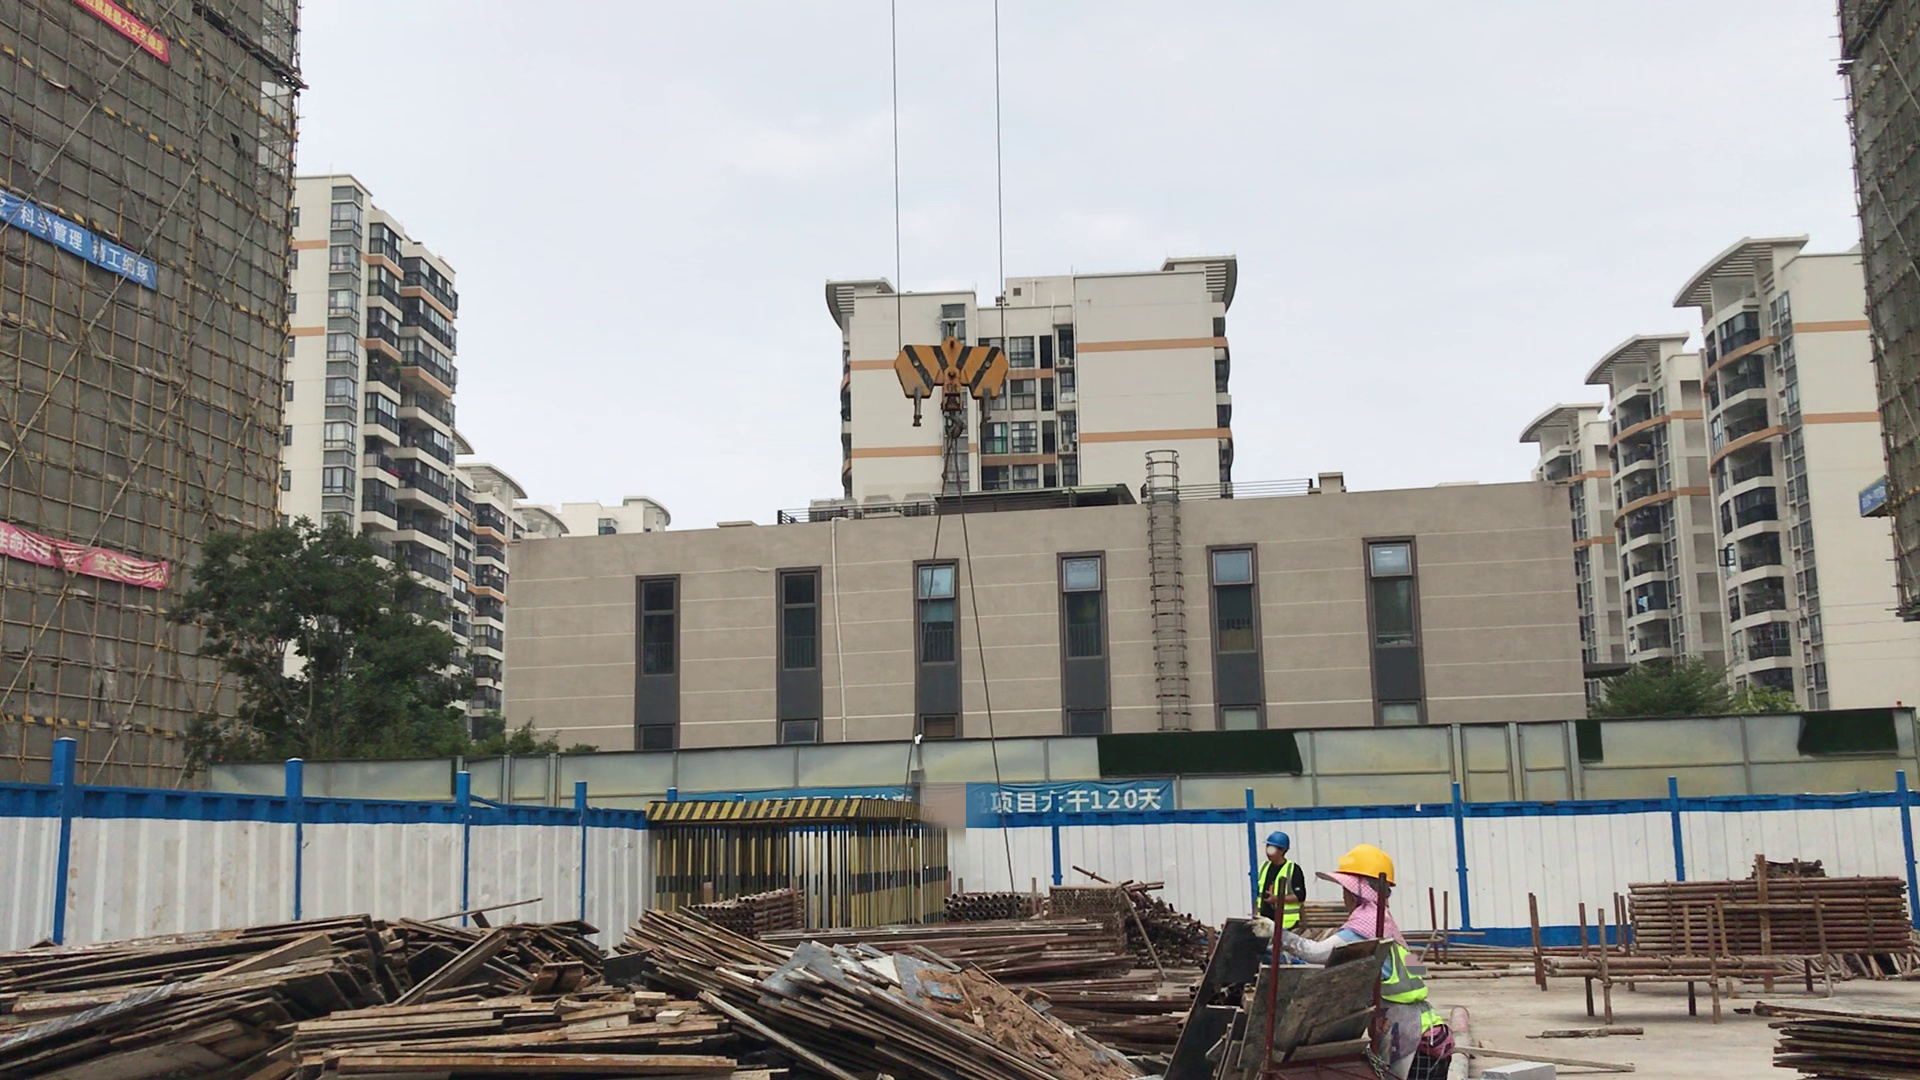board: (7, 922, 405, 1080), (741, 942, 1075, 1080), (281, 994, 725, 1080), (418, 907, 613, 996), (627, 902, 778, 1011), (1750, 989, 1919, 1080)
helmet: (1330, 844, 1401, 893), (1268, 828, 1293, 856)
hook: (888, 328, 1029, 435)
person: (1307, 843, 1447, 1080), (1254, 829, 1306, 936)
scaffold: (1595, 871, 1917, 950), (1128, 888, 1217, 981), (688, 879, 794, 952), (938, 880, 1042, 935)
slogan: (937, 758, 1187, 838), (1, 195, 175, 302), (1, 514, 184, 600), (74, 1, 189, 54)
vest: (1375, 935, 1450, 1057), (1256, 865, 1303, 936)
